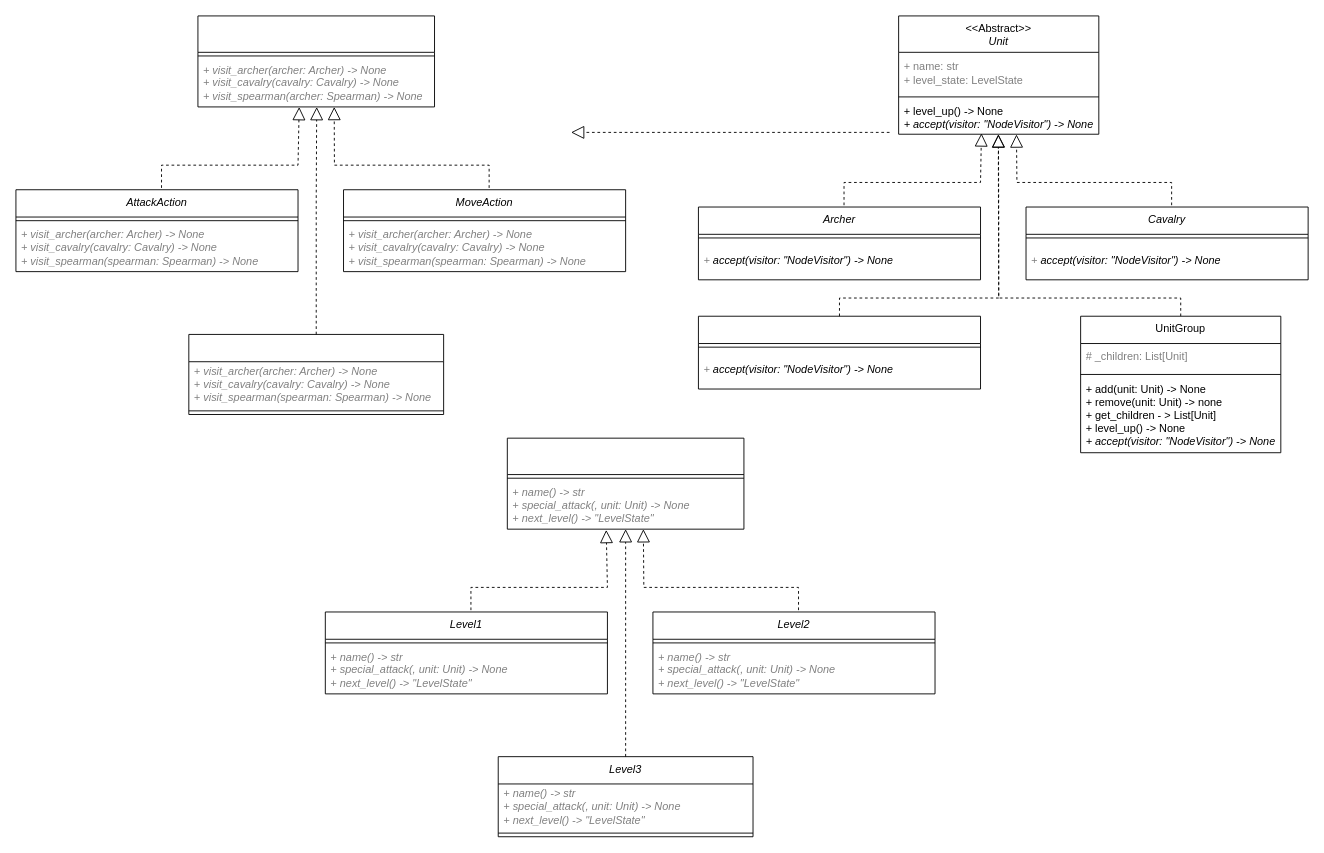
Some shapes in this 1324 by 853 pixel diagram are drawn without their labels. The shapes that lost their labels are listed below. From the top down, each one's box as (x1, y1, x2, y2) in pixels, then its label:
(197, 15, 435, 107): <<Abstract>> Unitvisitor
(698, 315, 981, 389): Spearman
(188, 334, 444, 415): SpecialAttackAction
(506, 437, 744, 529): <<Abstract>> LevelState
